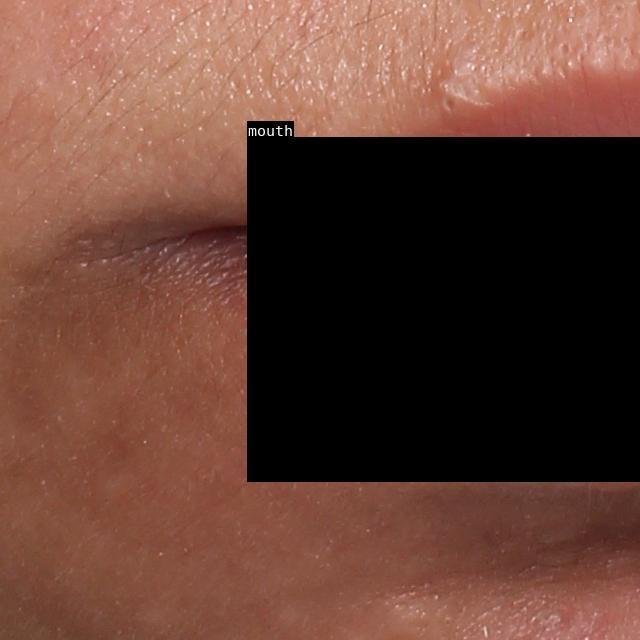hypertrophic_scar: (378, 598, 436, 640)
